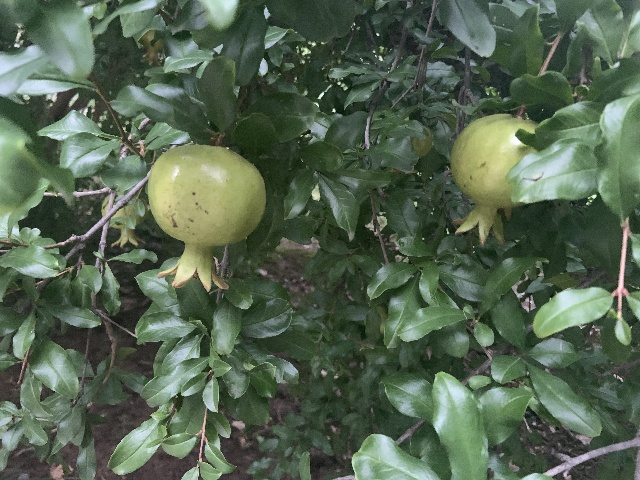mid-growth: (147, 142, 266, 292), (449, 113, 537, 246), (101, 194, 146, 248), (391, 127, 432, 175), (138, 29, 165, 65)
